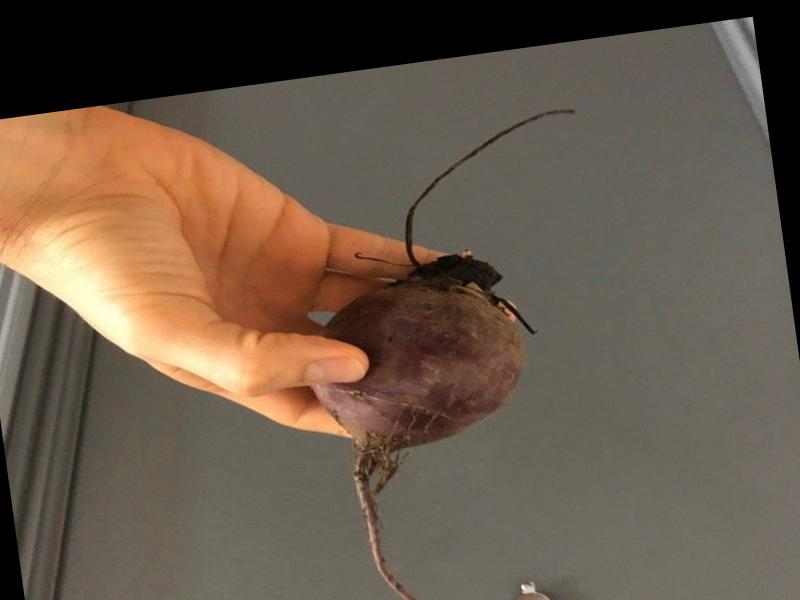Beet: (279, 107, 643, 600)
